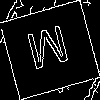M: (24, 25, 74, 80)
